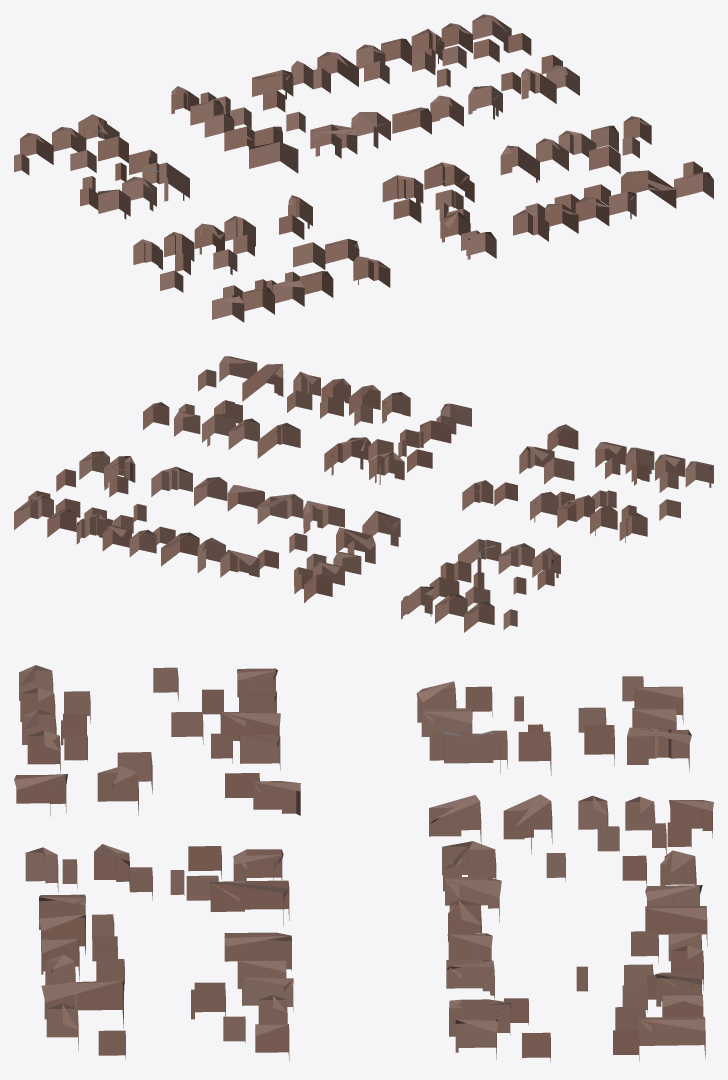
The model's file is c_1645_17828_buildings_residential.glb.
The picture shows the model from 3 angles, top to bottom: view 1: azimuth 30°, elevation 25°; view 2: azimuth 150°, elevation 25°; view 3: azimuth 270°, elevation 25°; orthographic projection. The views are drawn at different scales.
Visible parts, largest first — view 1: geometry_0; view 2: geometry_0; view 3: geometry_0.
Part boxes in pixels (box(x1,y1,x2,y2)): geometry_0: box(14, 14, 713, 322); geometry_0: box(14, 356, 713, 632); geometry_0: box(14, 665, 713, 1061).
Bounding box in the file's own units: 259 × 10.94 × 205.
